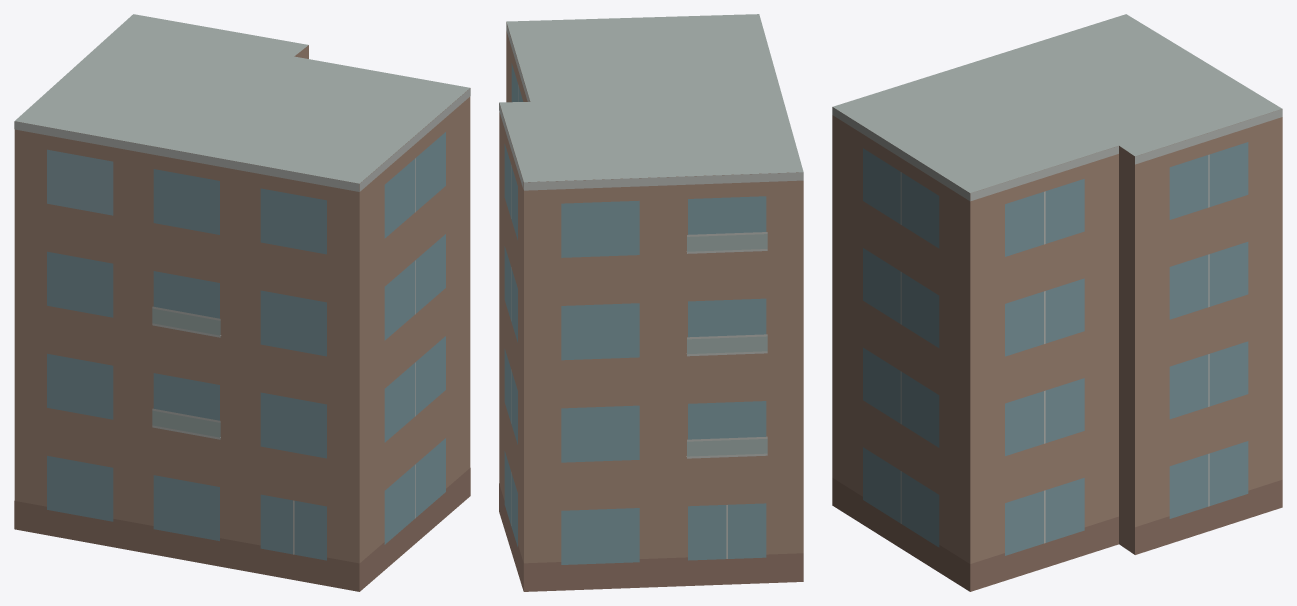
Rendered from survey-upis-33030750.glb.
3 views of the same model, side by side, from view 1: azimuth 30°, elevation 25°; view 2: azimuth 150°, elevation 25°; view 3: azimuth 270°, elevation 25° (orthographic). The views are drawn at different scales.
Parts seen in each view (by area): view 1: survey-upis-33030750.tmp; view 2: survey-upis-33030750.tmp; view 3: survey-upis-33030750.tmp.
Part boxes in pixels (x1,y1,x2,y2): survey-upis-33030750.tmp: [14, 14, 470, 591]; survey-upis-33030750.tmp: [499, 14, 803, 591]; survey-upis-33030750.tmp: [832, 14, 1282, 591].
Bounding box in the file's own units: 11.48 × 11.9 × 12.19.
